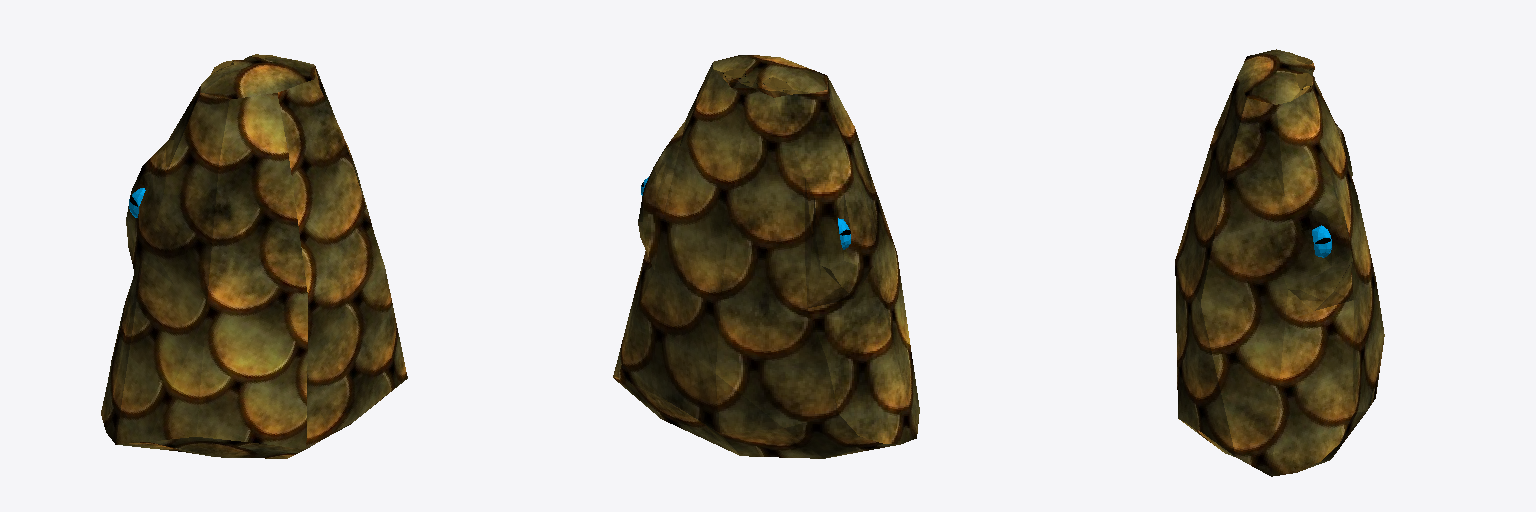
3 renders of one model, left to right at view 1: azimuth 30°, elevation 25°; view 2: azimuth 150°, elevation 25°; view 3: azimuth 270°, elevation 25°, orthographic.
Visible parts, largest first — view 1: Cube3; view 2: Cube3; view 3: Cube3.
Boxes of the visible parts, <box> form: Cube3: <box>101,54,407,458</box>; Cube3: <box>613,55,919,458</box>; Cube3: <box>1175,49,1384,476</box>.
Size of the model in its own units: 2 by 2.55 by 1.25.
1 materials, 1 textured.